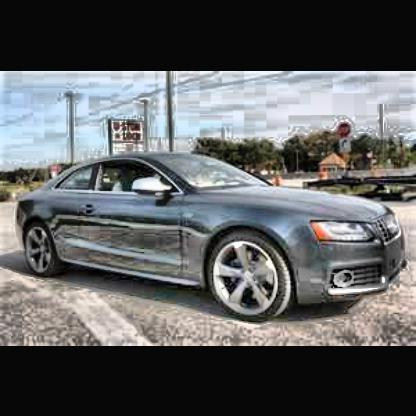Audi S5 Coupe 2012: (18, 154, 409, 327)
